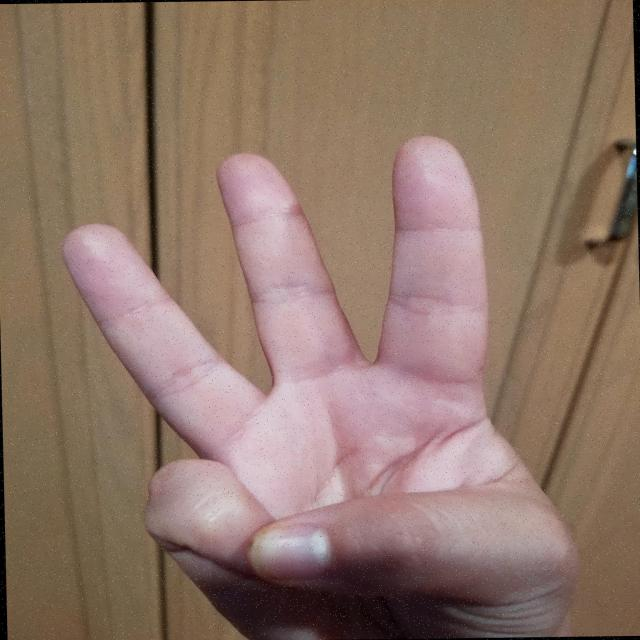W: (50, 128, 592, 640)
